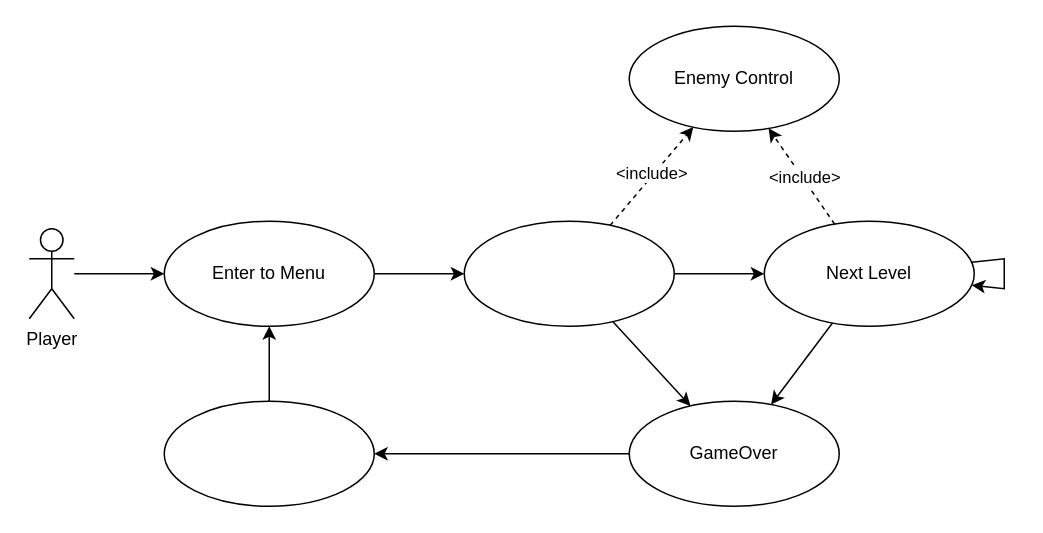
Some shapes in this 1043 by 533 pixel diagram are drawn without their labels. Here are the shapes that lost their labels. From the top down, the centre of each, then its label:
point 568,273: Play game
point 268,453: Back to menu
